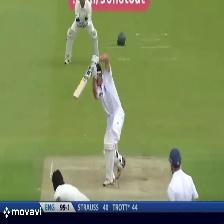batsman: (72, 49, 131, 184)
